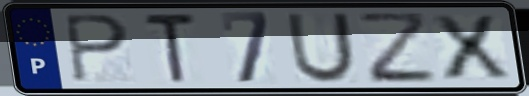7: (217, 9, 273, 88)
P: (60, 12, 133, 85)
T: (140, 11, 200, 86)
U: (283, 10, 358, 85)
X: (427, 13, 515, 82)
Z: (353, 10, 441, 86)
